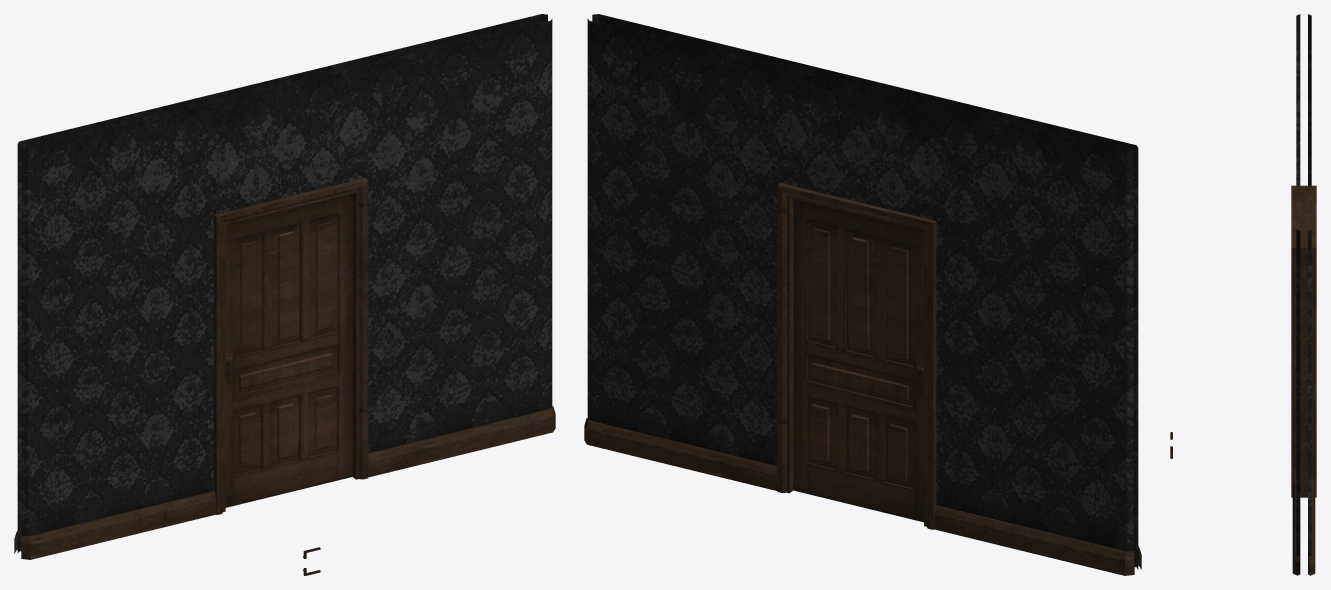
The model's file is doorway_2.fbx.
3 views of the same model, side by side, from view 1: azimuth 30°, elevation 25°; view 2: azimuth 150°, elevation 25°; view 3: azimuth 270°, elevation 25° (orthographic). The views are drawn at different scales.
Parts seen in each view (by area): view 1: doorway_2, door_2; view 2: doorway_2, door_2; view 3: doorway_2.
Part boxes in pixels (bbox=[...]): doorway_2: bbox=[14, 14, 555, 559]; door_2: bbox=[225, 193, 352, 507]; doorway_2: bbox=[584, 14, 1141, 575]; door_2: bbox=[793, 199, 923, 522]; doorway_2: bbox=[1291, 14, 1316, 575].
Bounding box in the file's own units: 4.09 × 3.09 × 1.16.
